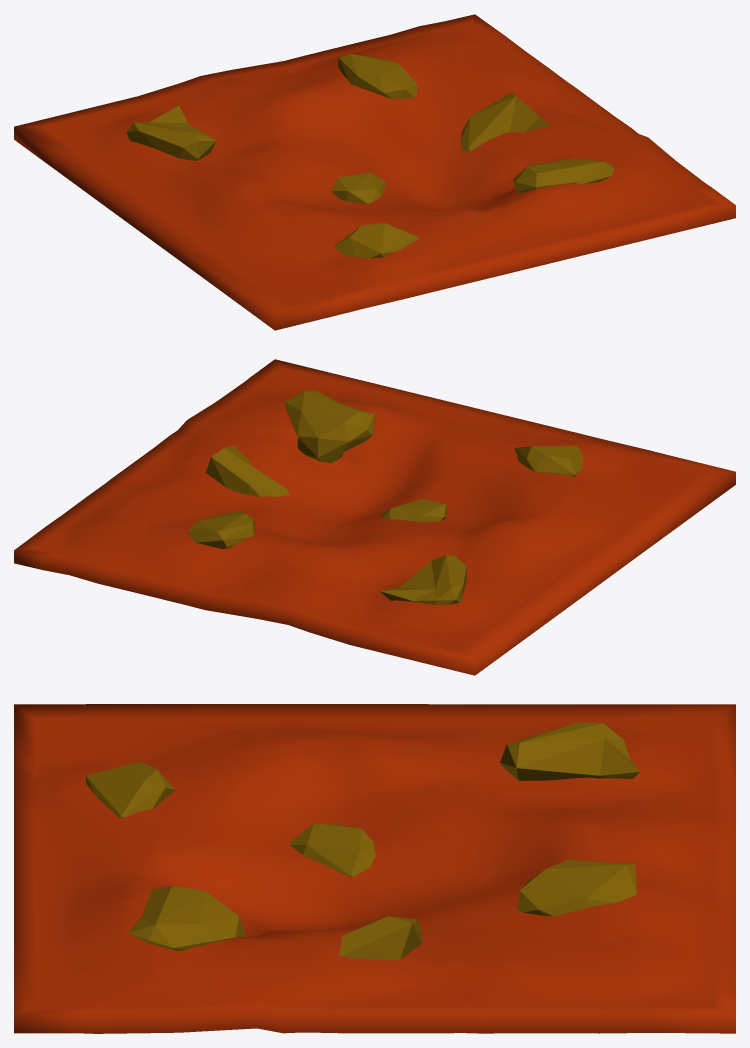
The model's file is Brasil_Platform.fbx.
3 views of the same model, one above another, from view 1: azimuth 30°, elevation 25°; view 2: azimuth 150°, elevation 25°; view 3: azimuth 270°, elevation 25° (orthographic). The views are drawn at different scales.
Parts seen in each view (by area): view 1: Cube; view 2: Cube; view 3: Cube.
Part boxes in pixels (x1,y1,x2,y2): Cube: (14,14,735,330); Cube: (14,359,735,675); Cube: (14,704,735,1033).
Size of the model in its own units: 102 by 15.19 by 99.99.
